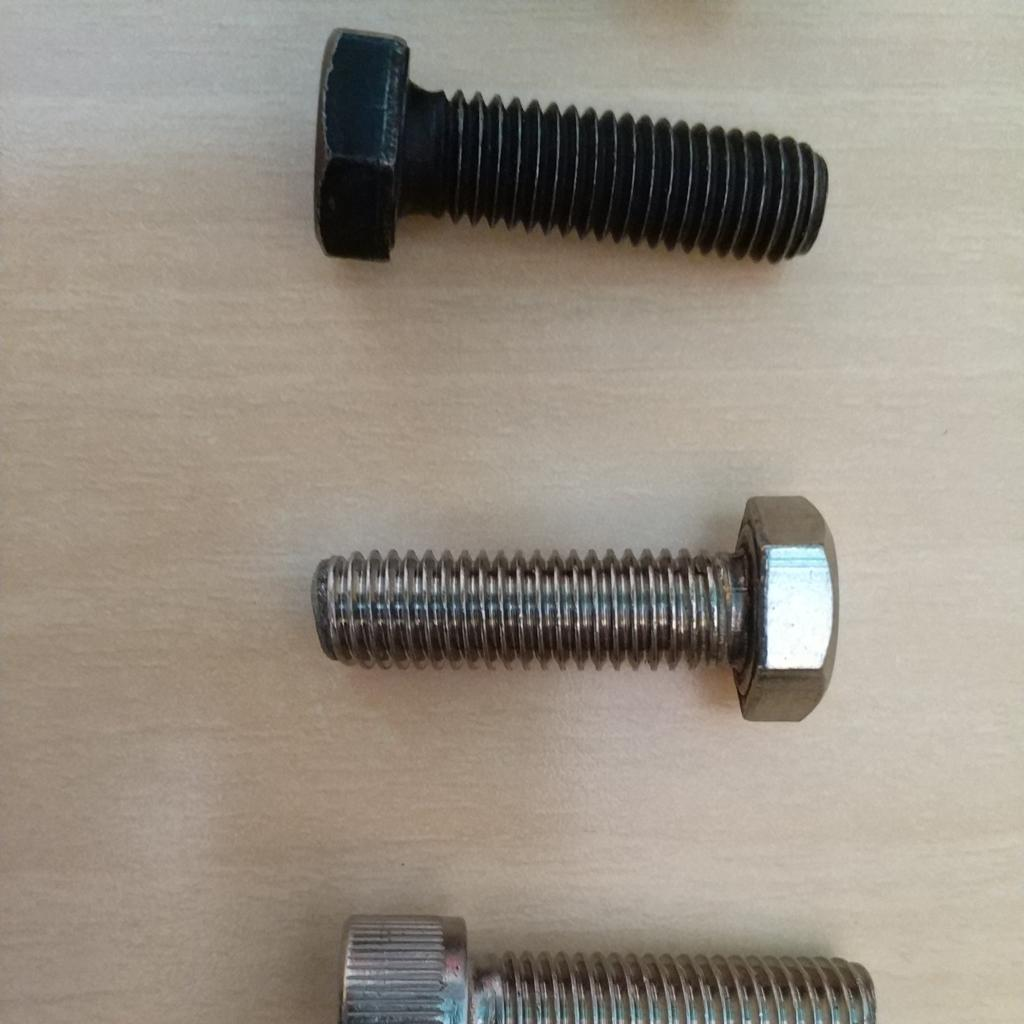screwtype1silver: (333, 897, 880, 1024)
screwtype2black: (307, 22, 831, 291)
screwtype2silver: (307, 494, 848, 732)
